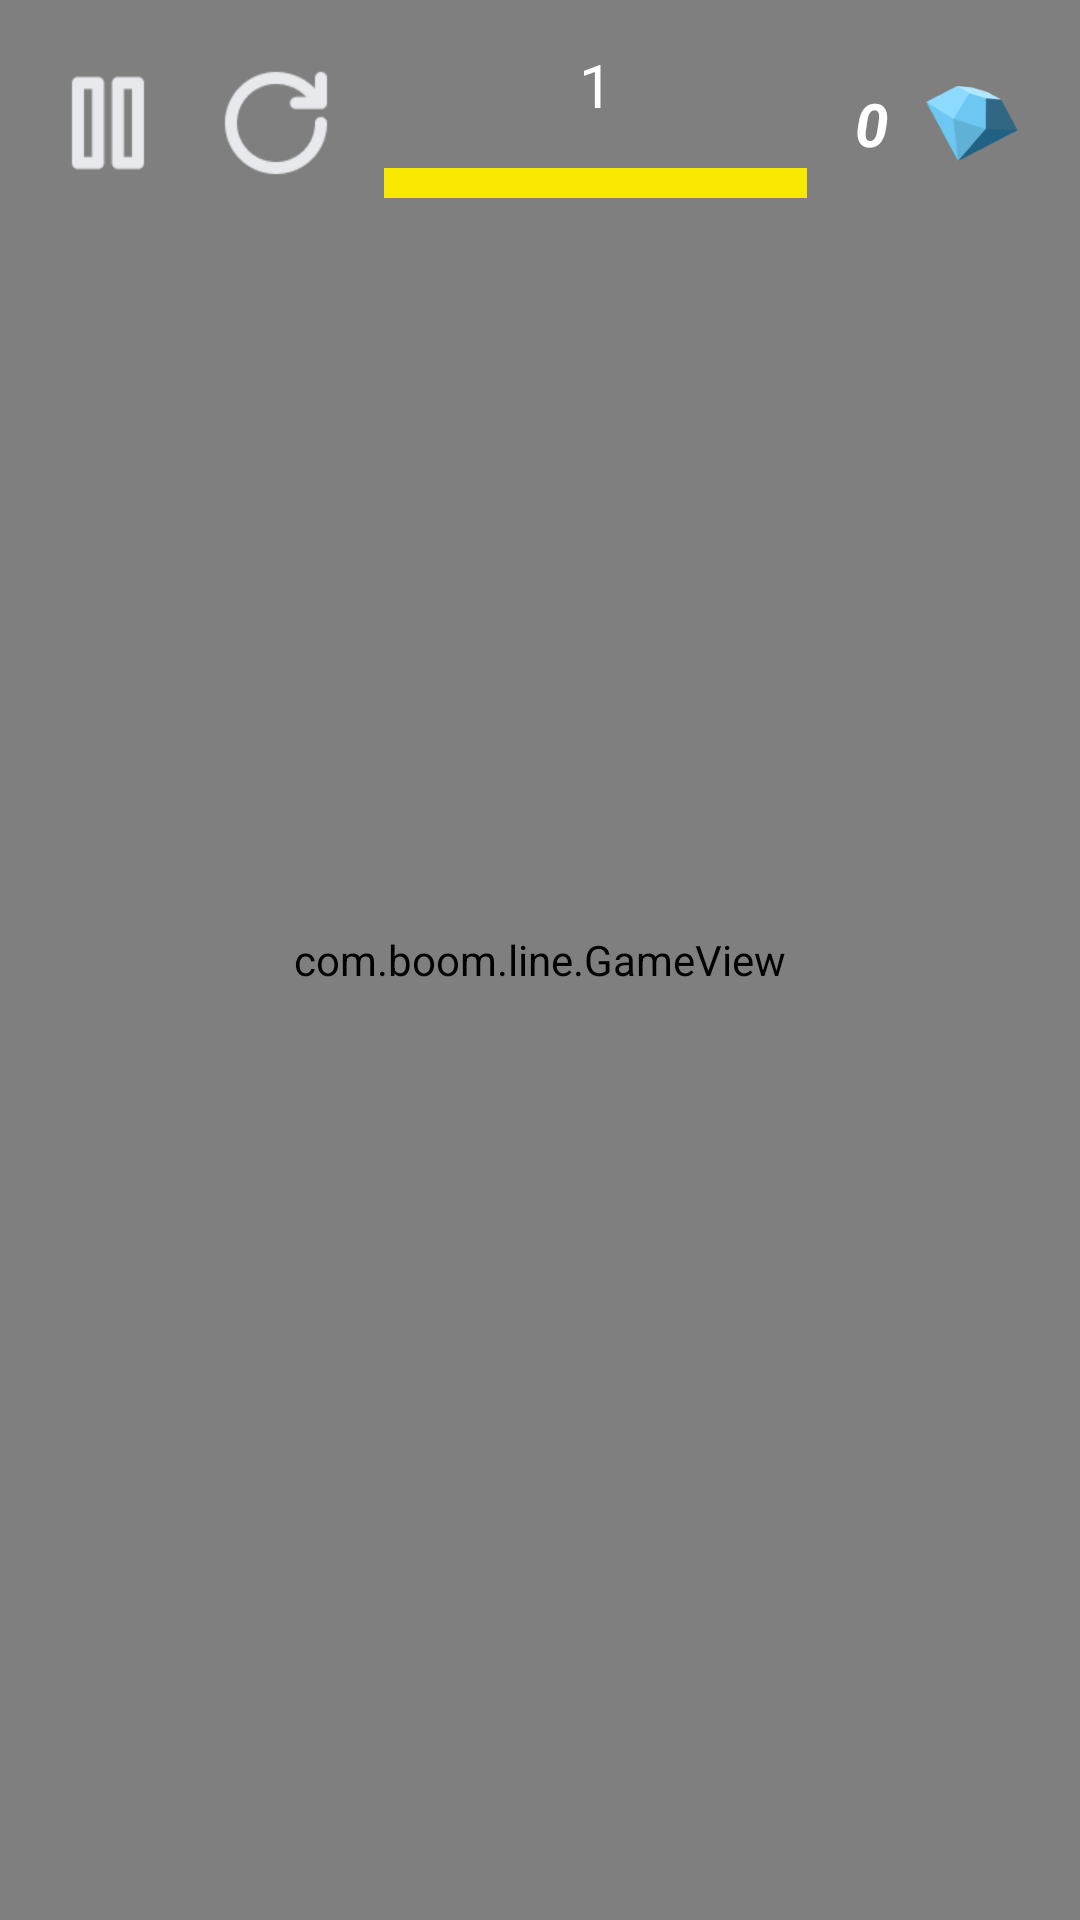

Icons on this 1080px x 1920px Android screen, each with its box as BBox(x1, y1, x2, y2):
again: BBox(225, 72, 327, 174)
diamond: BBox(926, 86, 1017, 161)
pause: BBox(72, 76, 144, 170)
